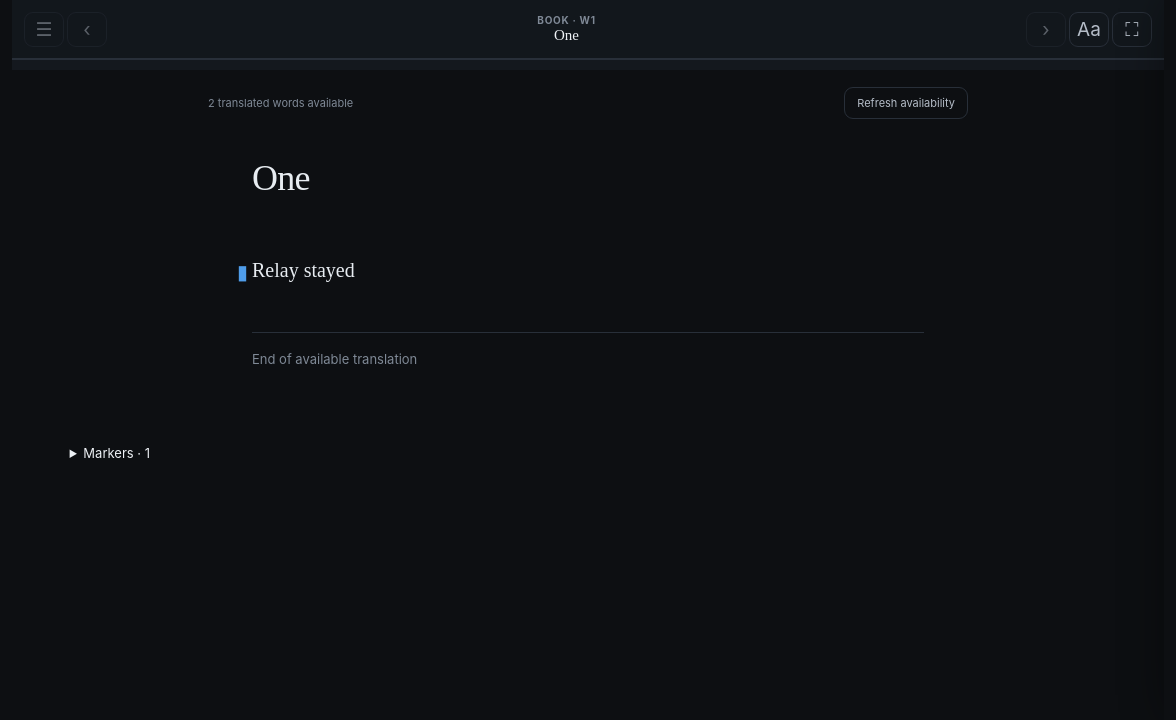
Test: keeps archived markers readable and disables marker editing in settings
Click the button named "Markers in b1".
click(242, 272)  # box [235,253,250,291]
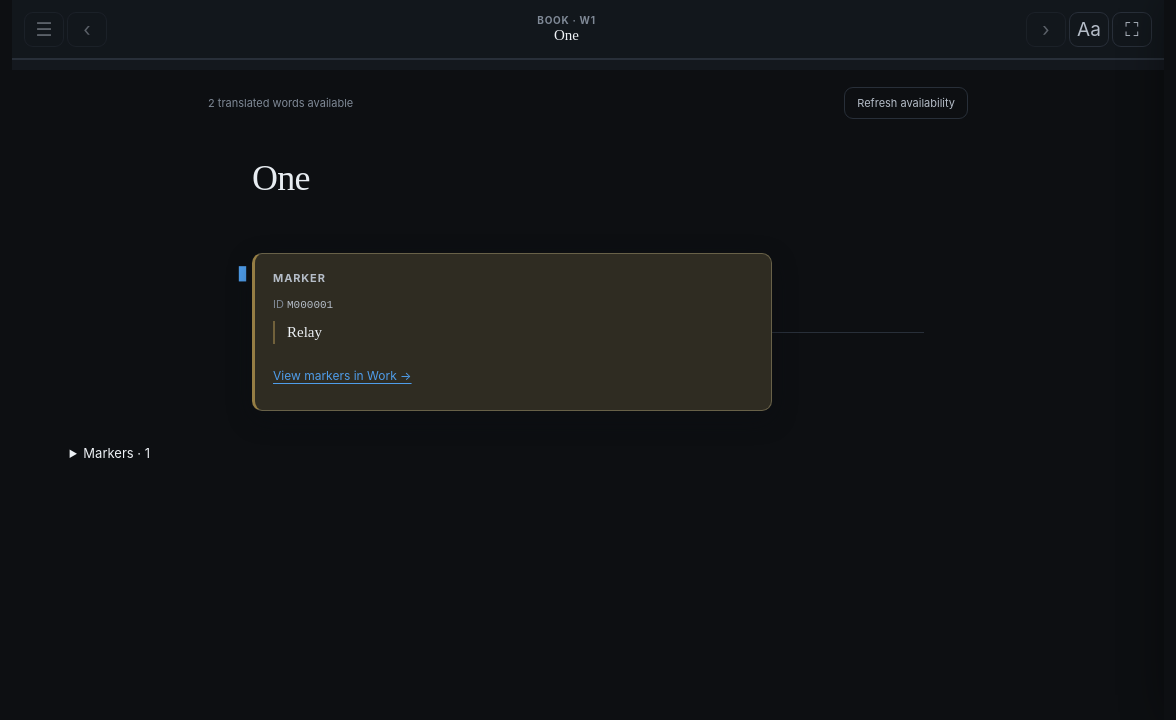
Result: the text "Relay" is shown at [273,321,753,344]
Click the button with aria-label "Reader settings".
click(1089, 29)  # box [1069,12,1109,46]
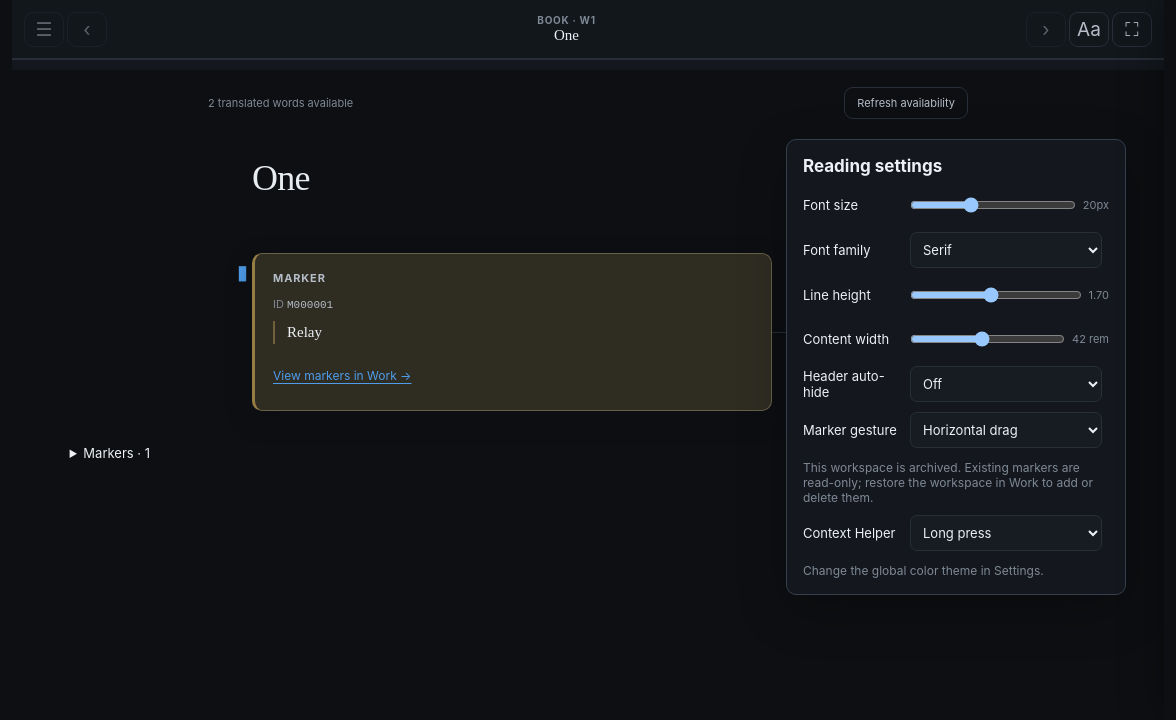
Result: the dropdown labelled "Marker gesture" is disabled at [910,412,1102,448]
Result: the text "This workspace is archived" is shown at [803,460,1093,505]
